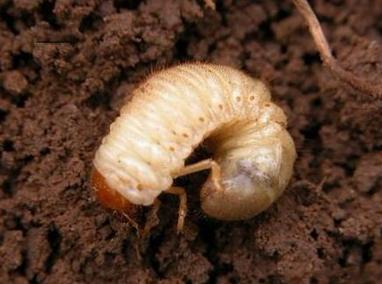grub: (88, 54, 295, 233)
